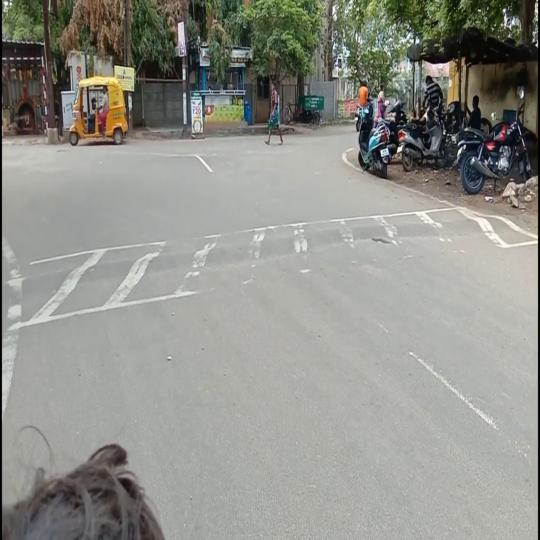Speed Bump: (1, 213, 512, 311)
